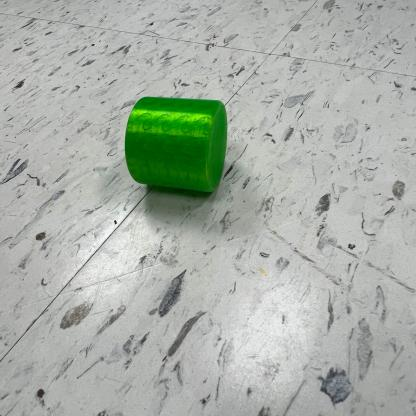green cylinder: (124, 95, 229, 195)
